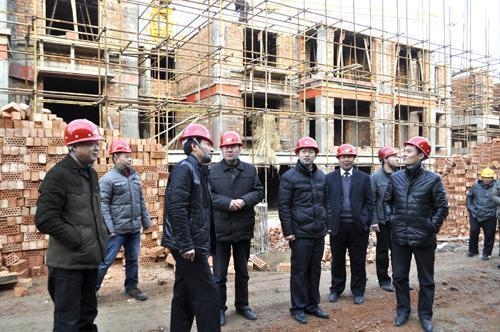Helmet: (63, 118, 104, 147), (179, 124, 214, 146), (402, 136, 432, 159), (218, 130, 244, 149), (295, 136, 319, 156), (108, 138, 132, 154), (336, 142, 358, 158), (378, 146, 399, 162), (480, 168, 494, 178)
Person: (34, 118, 107, 332), (382, 136, 449, 332), (160, 123, 222, 332), (208, 130, 264, 326), (277, 136, 330, 324), (94, 137, 152, 299), (327, 142, 374, 305), (458, 165, 500, 269), (232, 0, 250, 25)
no-vest: (37, 157, 105, 268), (210, 164, 260, 244), (163, 159, 205, 249), (389, 172, 442, 240), (281, 169, 325, 243), (104, 167, 150, 236), (330, 173, 365, 233), (467, 181, 498, 221)
